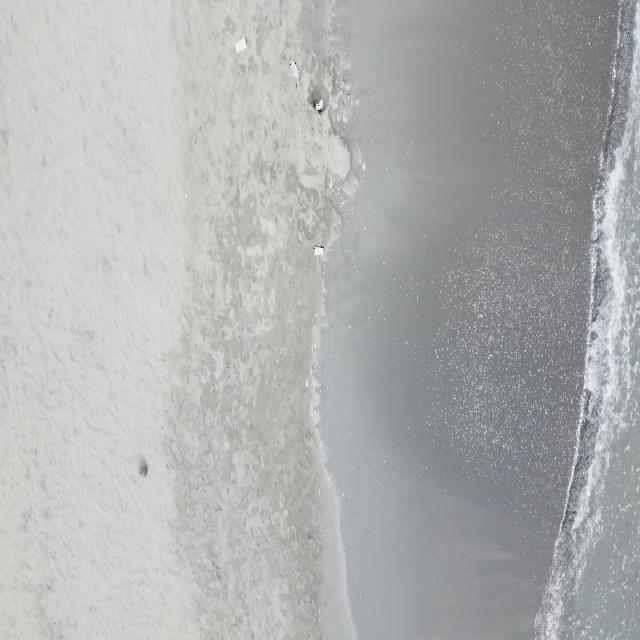takeaway-cup: (290, 60, 300, 80), (236, 36, 246, 54), (313, 244, 324, 258), (314, 99, 322, 112)
